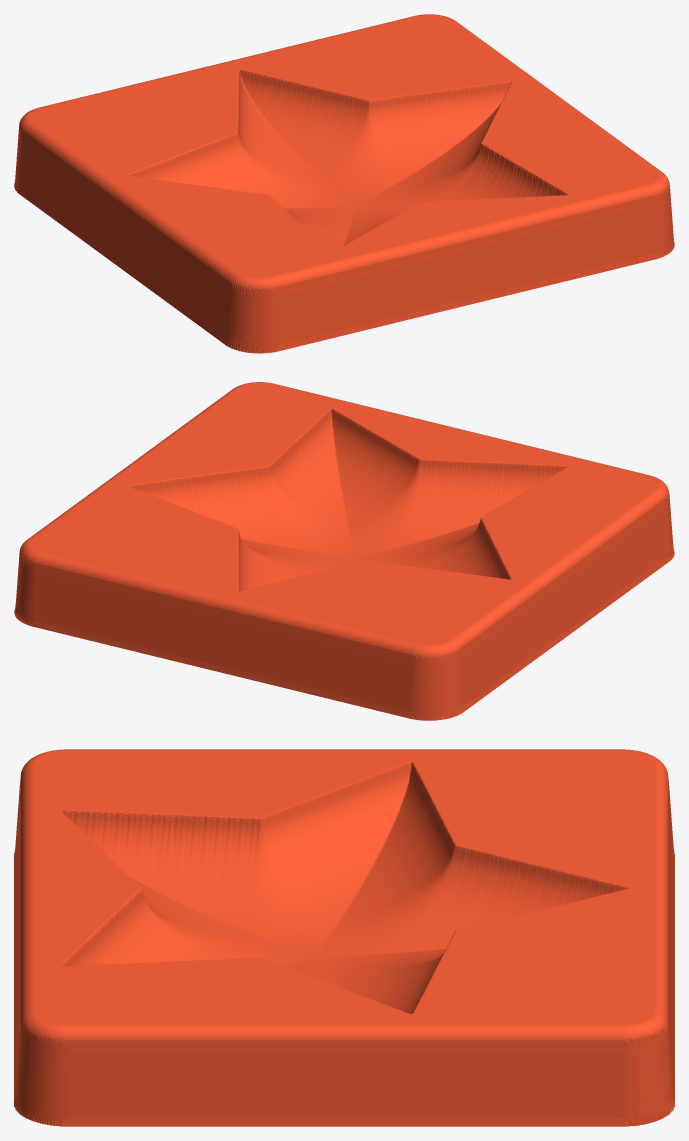
File: mold.glb
3 views of the same model, one above another, from view 1: azimuth 30°, elevation 25°; view 2: azimuth 150°, elevation 25°; view 3: azimuth 270°, elevation 25° (orthographic). The views are drawn at different scales.
Parts seen in each view (by area): view 1: geometry_0; view 2: geometry_0; view 3: geometry_0.
Part boxes in pixels (<box>): geometry_0: <box>14,14,674,353</box>; geometry_0: <box>14,382,674,720</box>; geometry_0: <box>14,749,674,1126</box>.
Size of the model in its own units: 0.1178 by 0.0175 by 0.1128.
